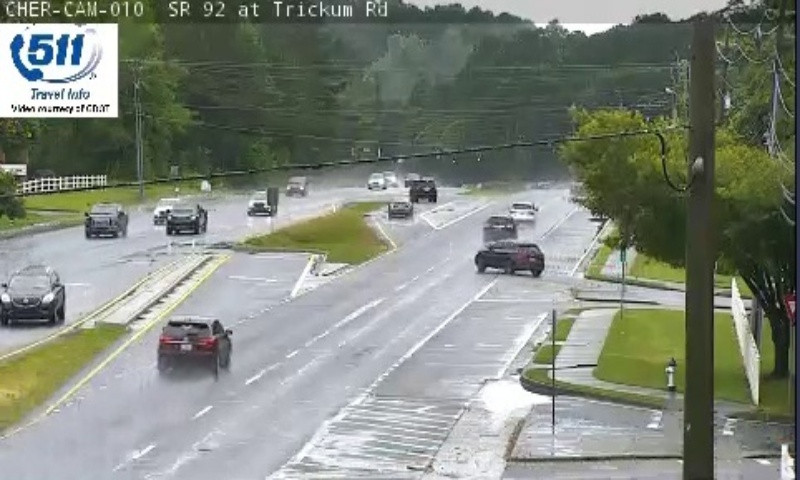car: (157, 317, 232, 371), (483, 215, 516, 242), (509, 200, 536, 225)
